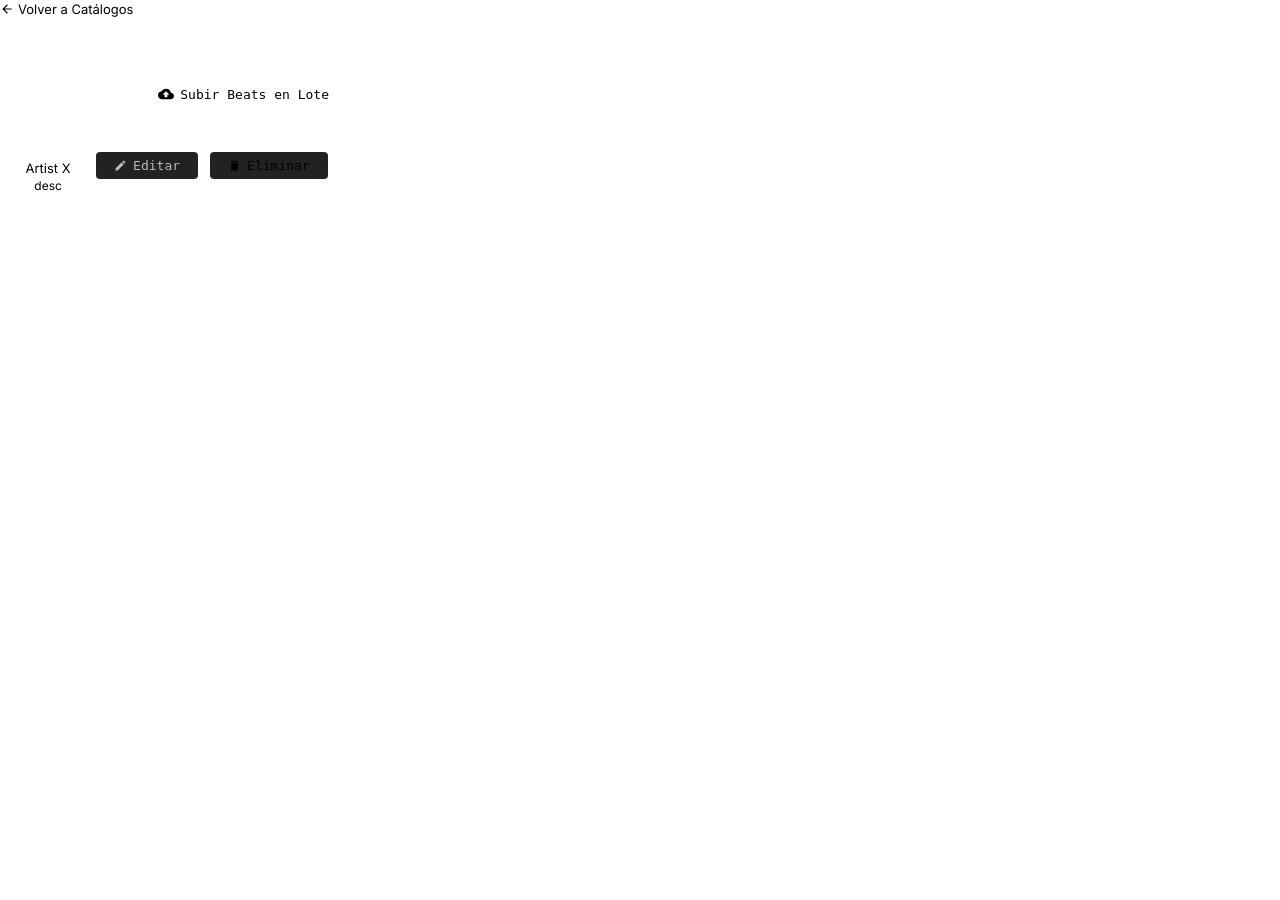
Scenario: AdminBeats (representative admin CRUD flow) › deletes a beat after confirmation and shows a success toast
Click the button "Eliminar": (269, 166) [210,152,328,179]
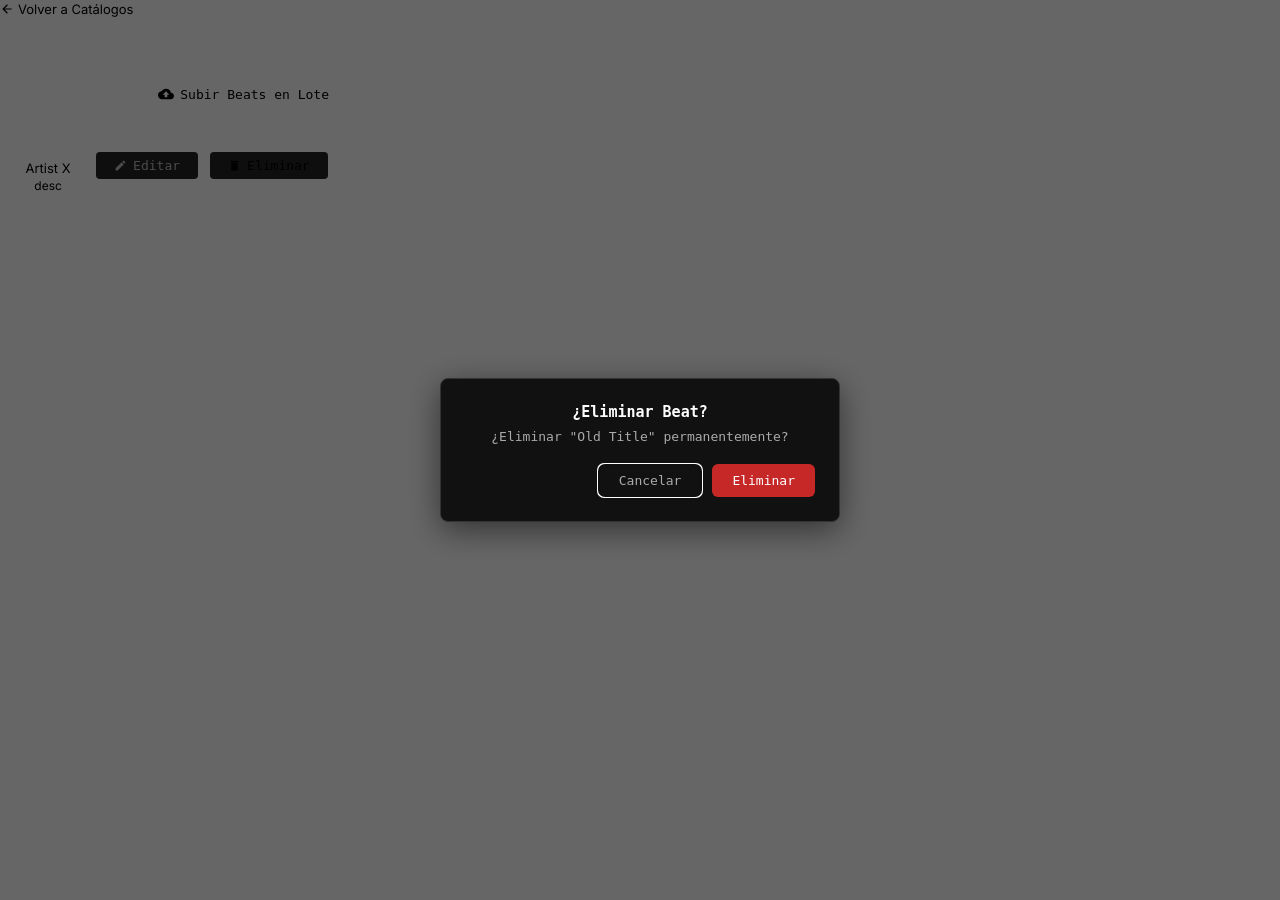
Click the button "Eliminar": (764, 480) [712,464,815,497]
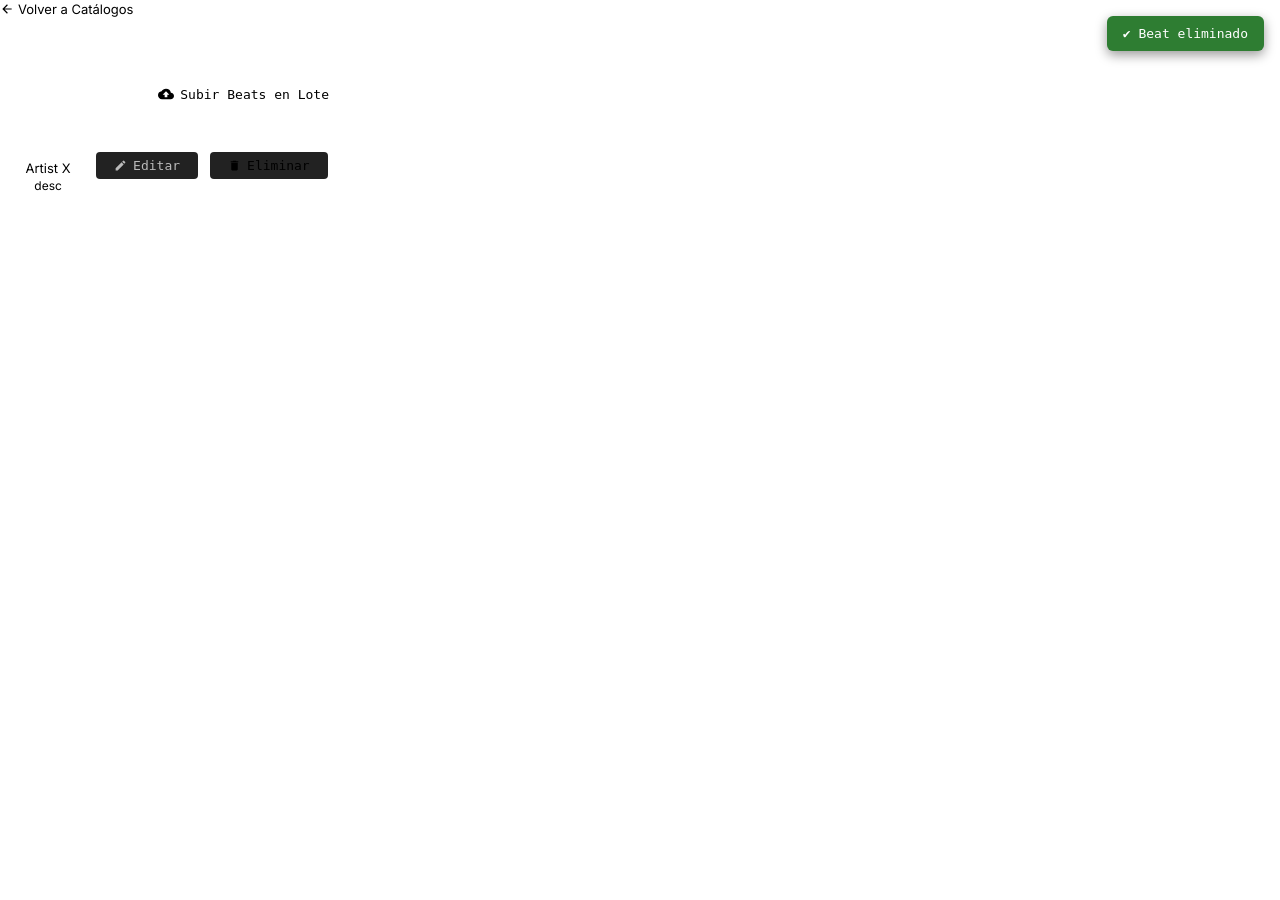
Result: the text "✔ Beat eliminado" is shown at [1107,16,1264,51]
